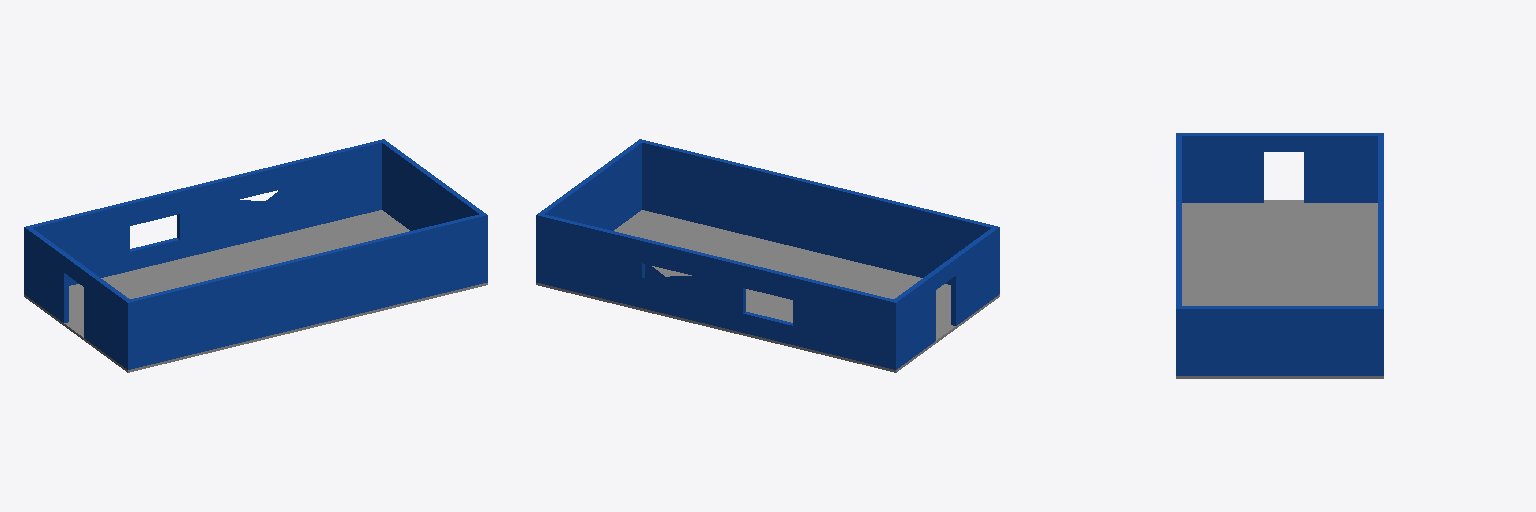
Rendered from green5.obj.
3 views of the same model, side by side, from view 1: azimuth 30°, elevation 25°; view 2: azimuth 150°, elevation 25°; view 3: azimuth 270°, elevation 25° (orthographic).
Visible parts, largest first — view 1: Rectangle001, Rectangle002; view 2: Rectangle001, Rectangle002; view 3: Rectangle001, Rectangle002.
Boxes of the visible parts, x1=… form: Rectangle001: x1=24, y1=139, x2=487, y2=369; Rectangle002: x1=24, y1=210, x2=487, y2=372; Rectangle001: x1=536, y1=139, x2=999, y2=369; Rectangle002: x1=536, y1=210, x2=999, y2=372; Rectangle001: x1=1176, y1=133, x2=1383, y2=375; Rectangle002: x1=1176, y1=200, x2=1383, y2=378.
Bounding box in the file's own units: 140 × 26 × 70.